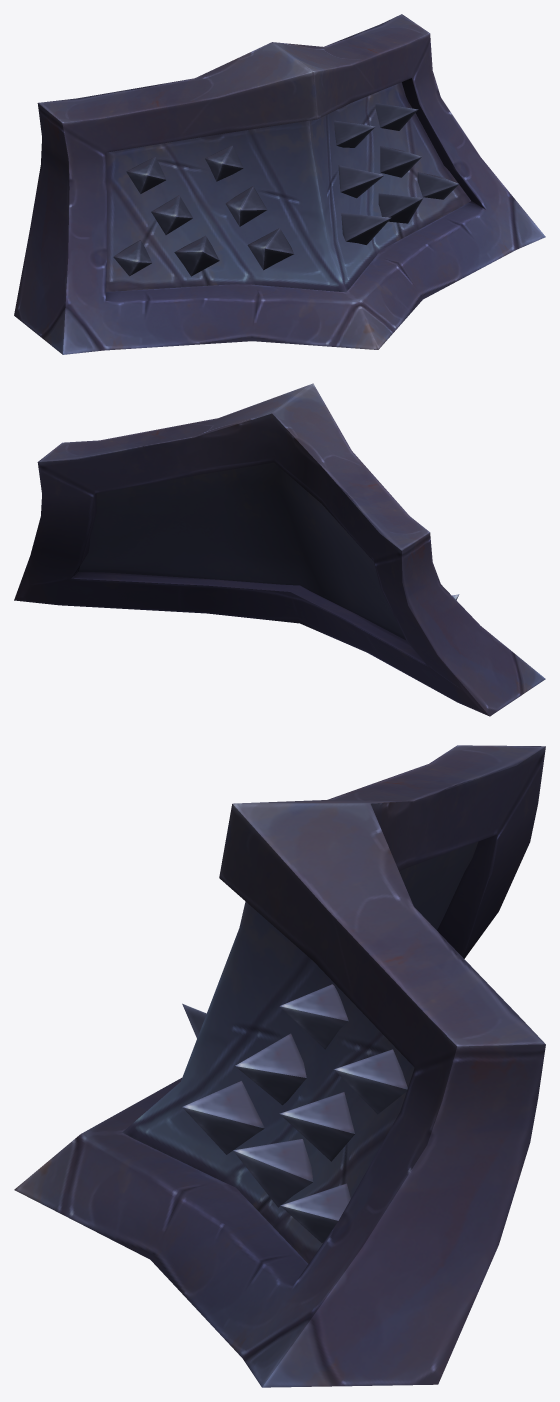
The model's file is bumper_02.fbx.
3 renders of one model, top to bottom at view 1: azimuth 30°, elevation 25°; view 2: azimuth 150°, elevation 25°; view 3: azimuth 270°, elevation 25°, orthographic. The views are drawn at different scales.
Parts seen in each view (by area): view 1: bumper_02; view 2: bumper_02; view 3: bumper_02.
Boxes of the visible parts, bbox=[...] form: bumper_02: bbox=[14, 14, 545, 354]; bumper_02: bbox=[14, 383, 545, 716]; bumper_02: bbox=[14, 745, 545, 1387].
Bounding box in the file's own units: 1.66 × 0.7563 × 0.9439.
